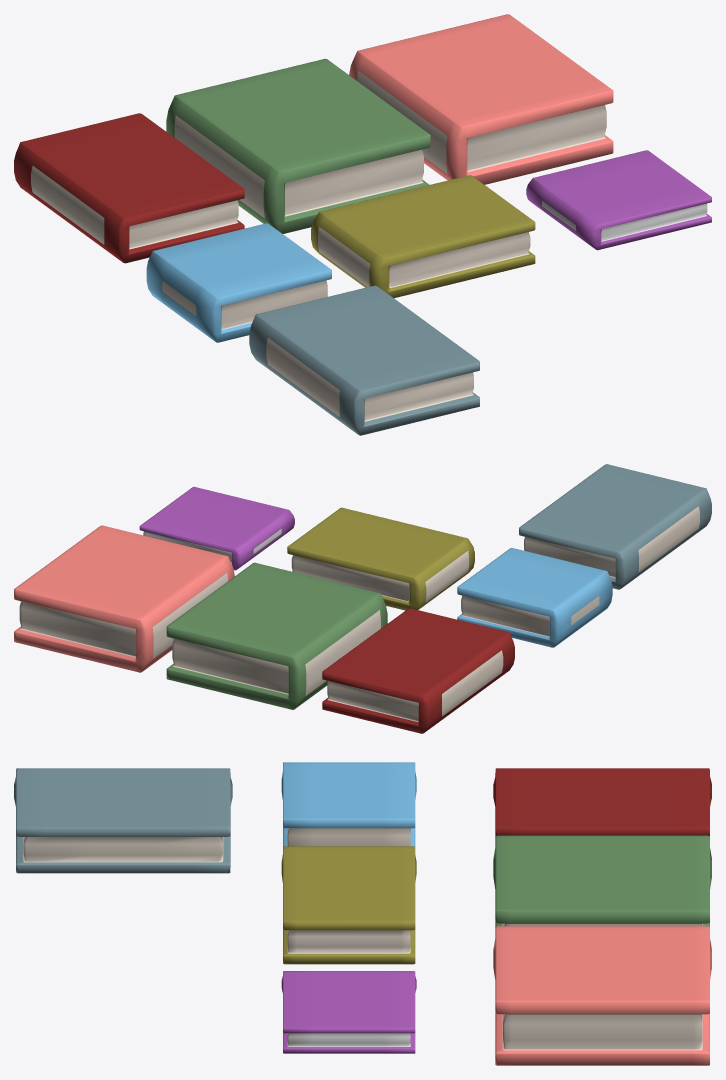
The model's file is Bedroom_Books.fbx.
3 views of the same model, one above another, from view 1: azimuth 30°, elevation 25°; view 2: azimuth 150°, elevation 25°; view 3: azimuth 270°, elevation 25° (orthographic). The views are drawn at different scales.
Visible parts, largest first — view 1: Book.005, Book.002, Book.006, Book.001, Book.003, Book.004, Book.007; view 2: Book.002, Book.005, Book.001, Book.006, Book.003, Book.004, Book.007; view 3: Book.005, Book.006, Book.002, Book.003, Book.001, Book.004, Book.007.
Part boxes in pixels (bbox=[...]): Book.005: bbox=[349, 14, 613, 184]; Book.002: bbox=[166, 58, 430, 233]; Book.006: bbox=[249, 285, 479, 435]; Book.001: bbox=[14, 113, 244, 263]; Book.003: bbox=[311, 175, 535, 298]; Book.004: bbox=[146, 223, 331, 342]; Book.007: bbox=[526, 150, 711, 250]; Book.002: bbox=[166, 562, 387, 709]; Book.005: bbox=[14, 525, 234, 672]; Book.001: bbox=[322, 608, 514, 733]; Book.006: bbox=[519, 464, 711, 589]; Book.003: bbox=[287, 507, 474, 610]; Book.004: bbox=[457, 548, 612, 647]; Book.007: bbox=[139, 486, 294, 570]; Book.005: bbox=[493, 926, 711, 1065]; Book.006: bbox=[14, 768, 232, 873]; Book.002: bbox=[493, 835, 711, 926]; Book.003: bbox=[281, 846, 416, 964]; Book.001: bbox=[493, 768, 711, 835]; Book.004: bbox=[281, 762, 416, 846]; Book.007: bbox=[281, 971, 416, 1053].
Size of the model in its own units: 97.3 by 11.6 by 114.
